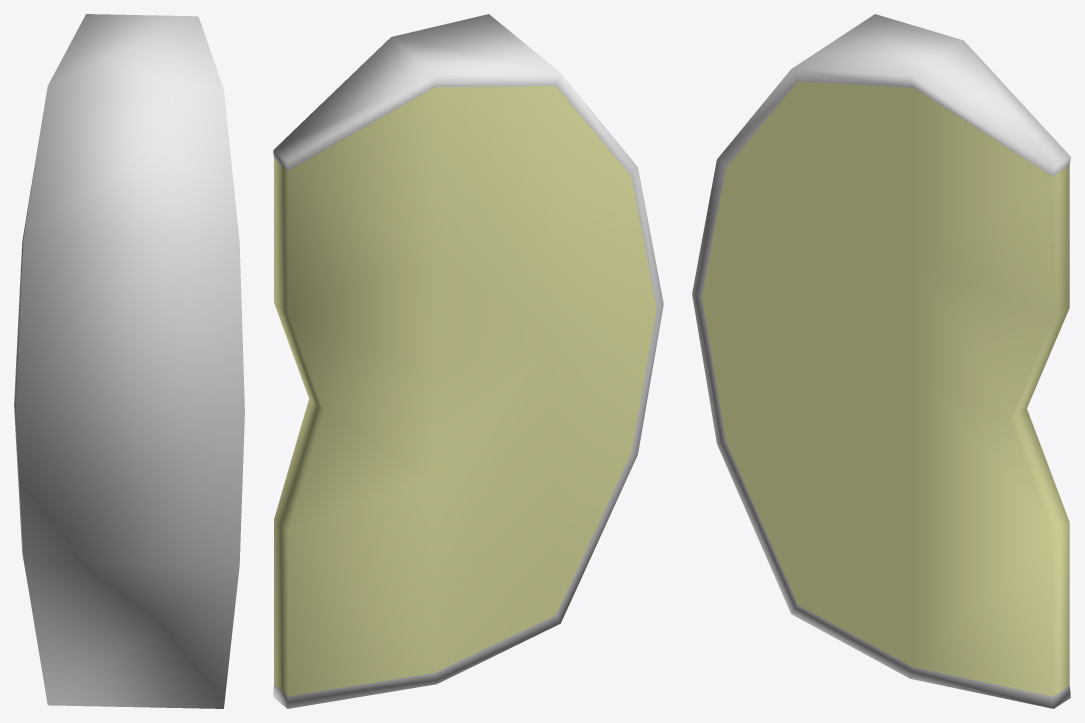
File: apple-slice.fbx
3 views of the same model, side by side, from view 1: azimuth 30°, elevation 25°; view 2: azimuth 150°, elevation 25°; view 3: azimuth 270°, elevation 25° (orthographic). The views are drawn at different scales.
Parts seen in each view (by area): view 1: Apple-slice; view 2: Apple-slice; view 3: Apple-slice.
Part boxes in pixels (x1=…): Apple-slice: x1=14, y1=14, x2=244, y2=708; Apple-slice: x1=273, y1=14, x2=663, y2=708; Apple-slice: x1=692, y1=14, x2=1070, y2=708.
Size of the model in its own units: 65.58 by 147 by 82.7.
